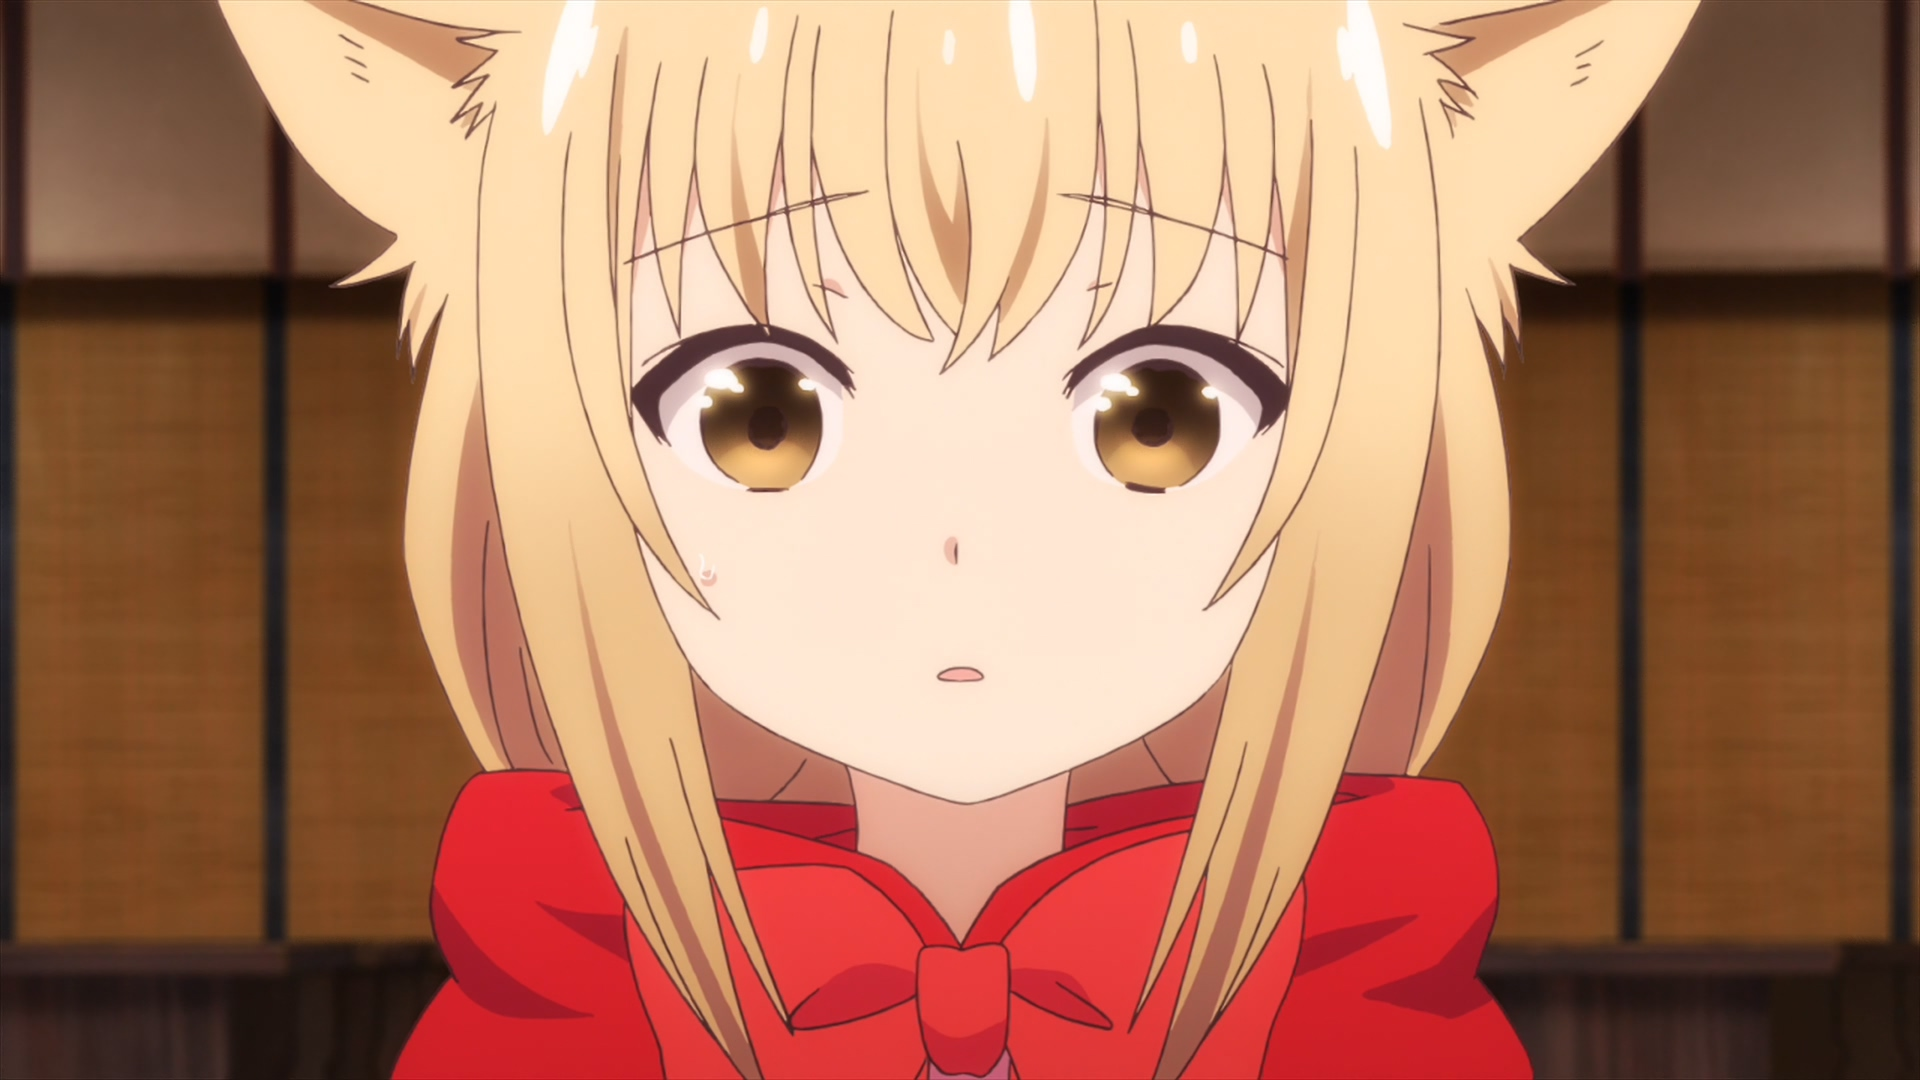柚: (216, 1, 1702, 1080)
